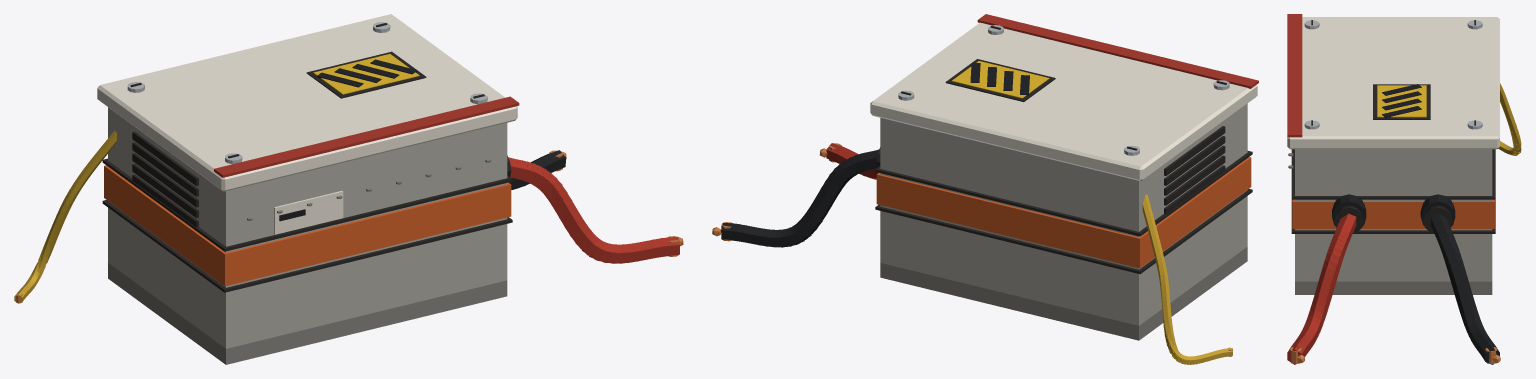
The model's file is pod_powerbox.glb.
The picture shows the model from 3 angles, left to right: view 1: azimuth 30°, elevation 25°; view 2: azimuth 150°, elevation 25°; view 3: azimuth 270°, elevation 25°; orthographic projection. The views are drawn at different scales.
Visible parts, largest first — view 1: pod_powerbox; view 2: pod_powerbox; view 3: pod_powerbox.
Boxes of the visible parts, x1,y1,x2,y2 form: pod_powerbox: [14, 14, 683, 364]; pod_powerbox: [712, 14, 1258, 364]; pod_powerbox: [1287, 14, 1521, 364].
Bounding box in the file's own units: 1.31 × 0.4486 × 0.5687.
